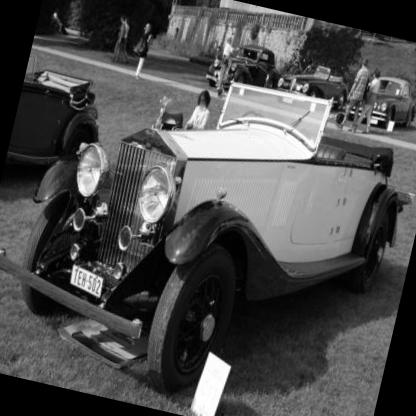car: (1, 21, 416, 416)
